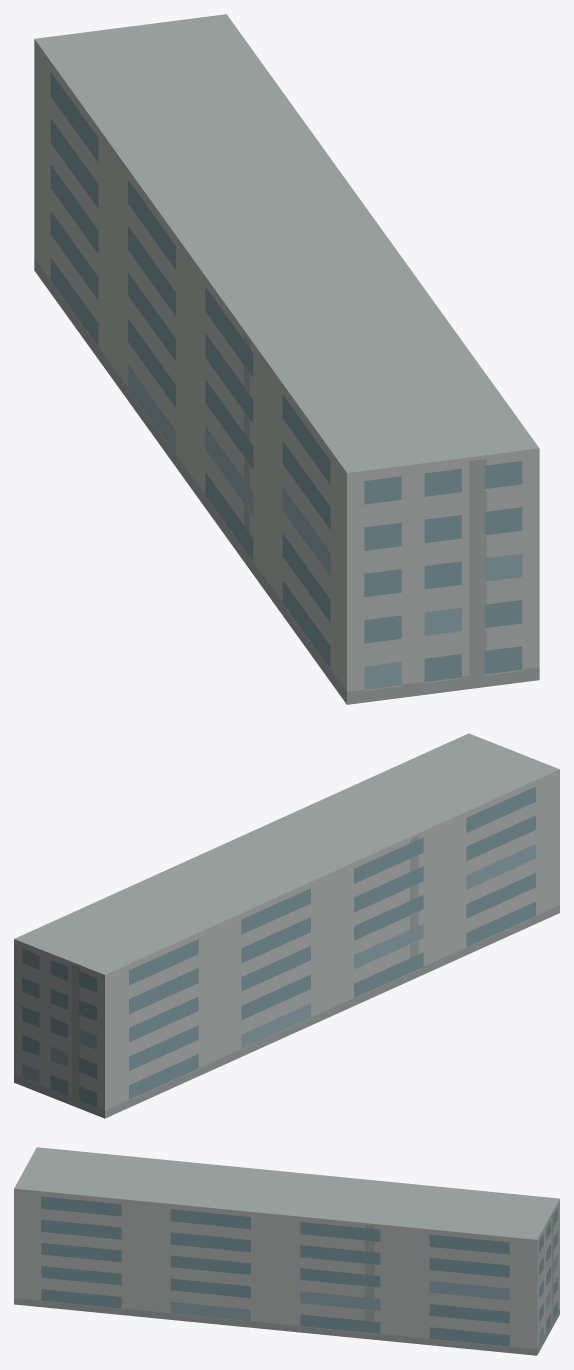
Rendered from residential-36778003-2a86-45b5-bca2-ab438efd7949.glb.
3 views of the same model, one above another, from view 1: azimuth 30°, elevation 25°; view 2: azimuth 150°, elevation 25°; view 3: azimuth 270°, elevation 25° (orthographic). The views are drawn at different scales.
Parts seen in each view (by area): view 1: residential-36778003-2a86-45b5-bca2-ab438efd7949.tmp; view 2: residential-36778003-2a86-45b5-bca2-ab438efd7949.tmp; view 3: residential-36778003-2a86-45b5-bca2-ab438efd7949.tmp.
Part boxes in pixels (x1=…): residential-36778003-2a86-45b5-bca2-ab438efd7949.tmp: x1=34, y1=14, x2=539, y2=704; residential-36778003-2a86-45b5-bca2-ab438efd7949.tmp: x1=14, y1=733, x2=559, y2=1118; residential-36778003-2a86-45b5-bca2-ab438efd7949.tmp: x1=14, y1=1147, x2=559, y2=1355.
Bounding box in the file's own units: 26.18 × 15.25 × 65.13.
